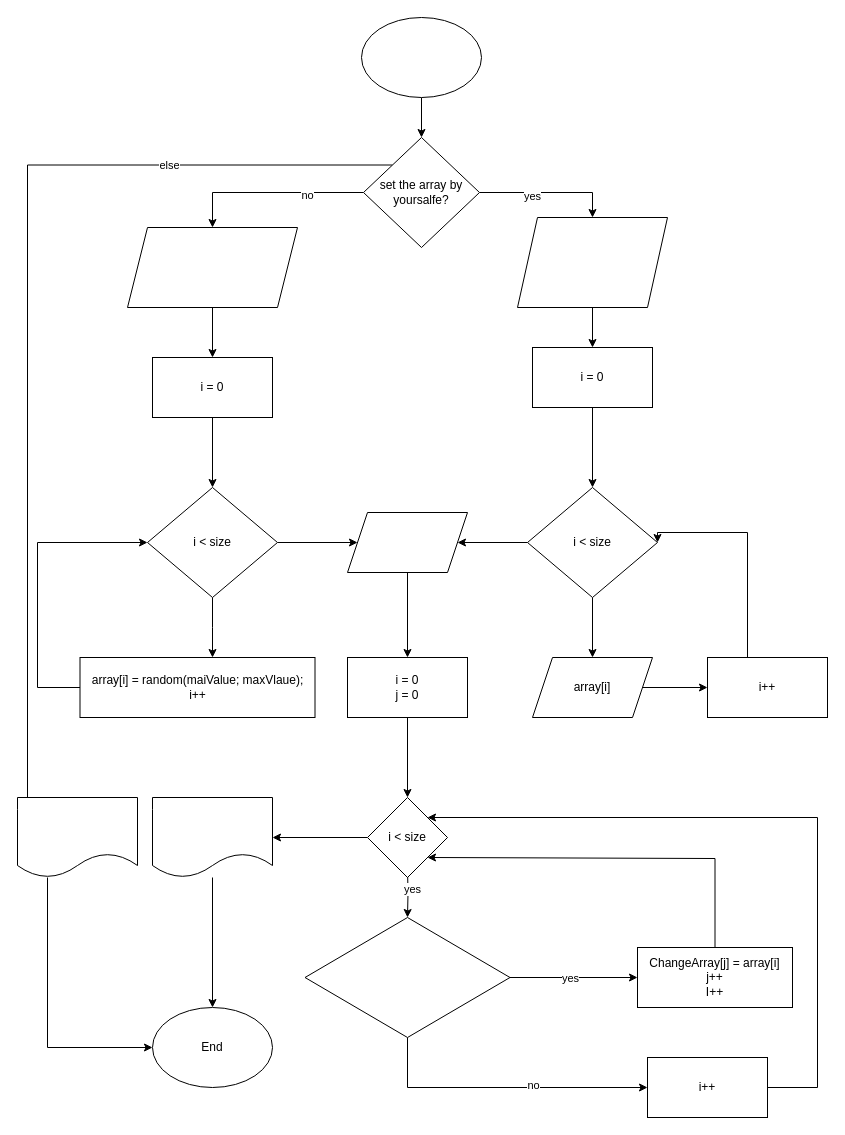
Some shapes in this 845 by 1135 pixel diagram are drawn without their labels. The shapes that lost their labels are listed below. From the top down, each one's box as (x1, y1, x2, y2) in pixels, then its label:
(360, 16, 482, 98): Start
(126, 226, 298, 308): size, minValu, maxValue, i, array
(516, 216, 668, 308): size, array
(346, 512, 468, 572): ChangeArray, j
(16, 796, 138, 878): you wrote the wrong value
(152, 796, 272, 878): ChangeArray
(304, 916, 510, 1038): array[i].Length <= 3
